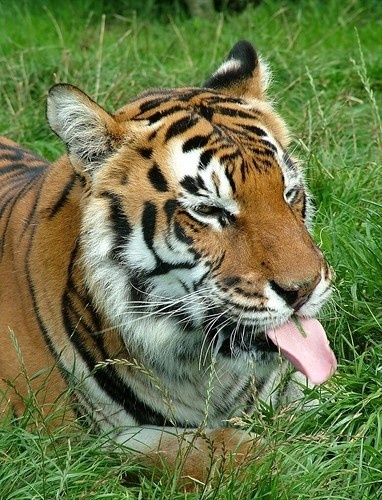tigre: (1, 33, 347, 491)
